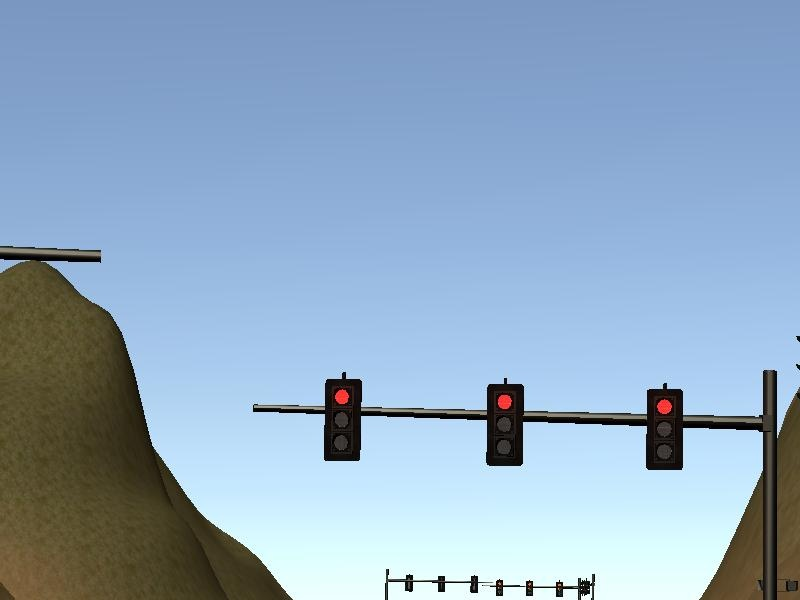RED: (324, 379, 361, 462), (485, 382, 522, 465), (645, 387, 682, 470)
